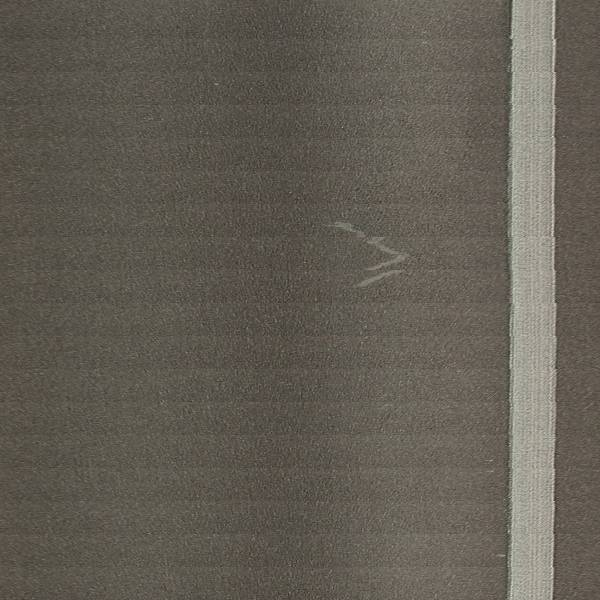road_damage: (326, 215, 410, 292)
